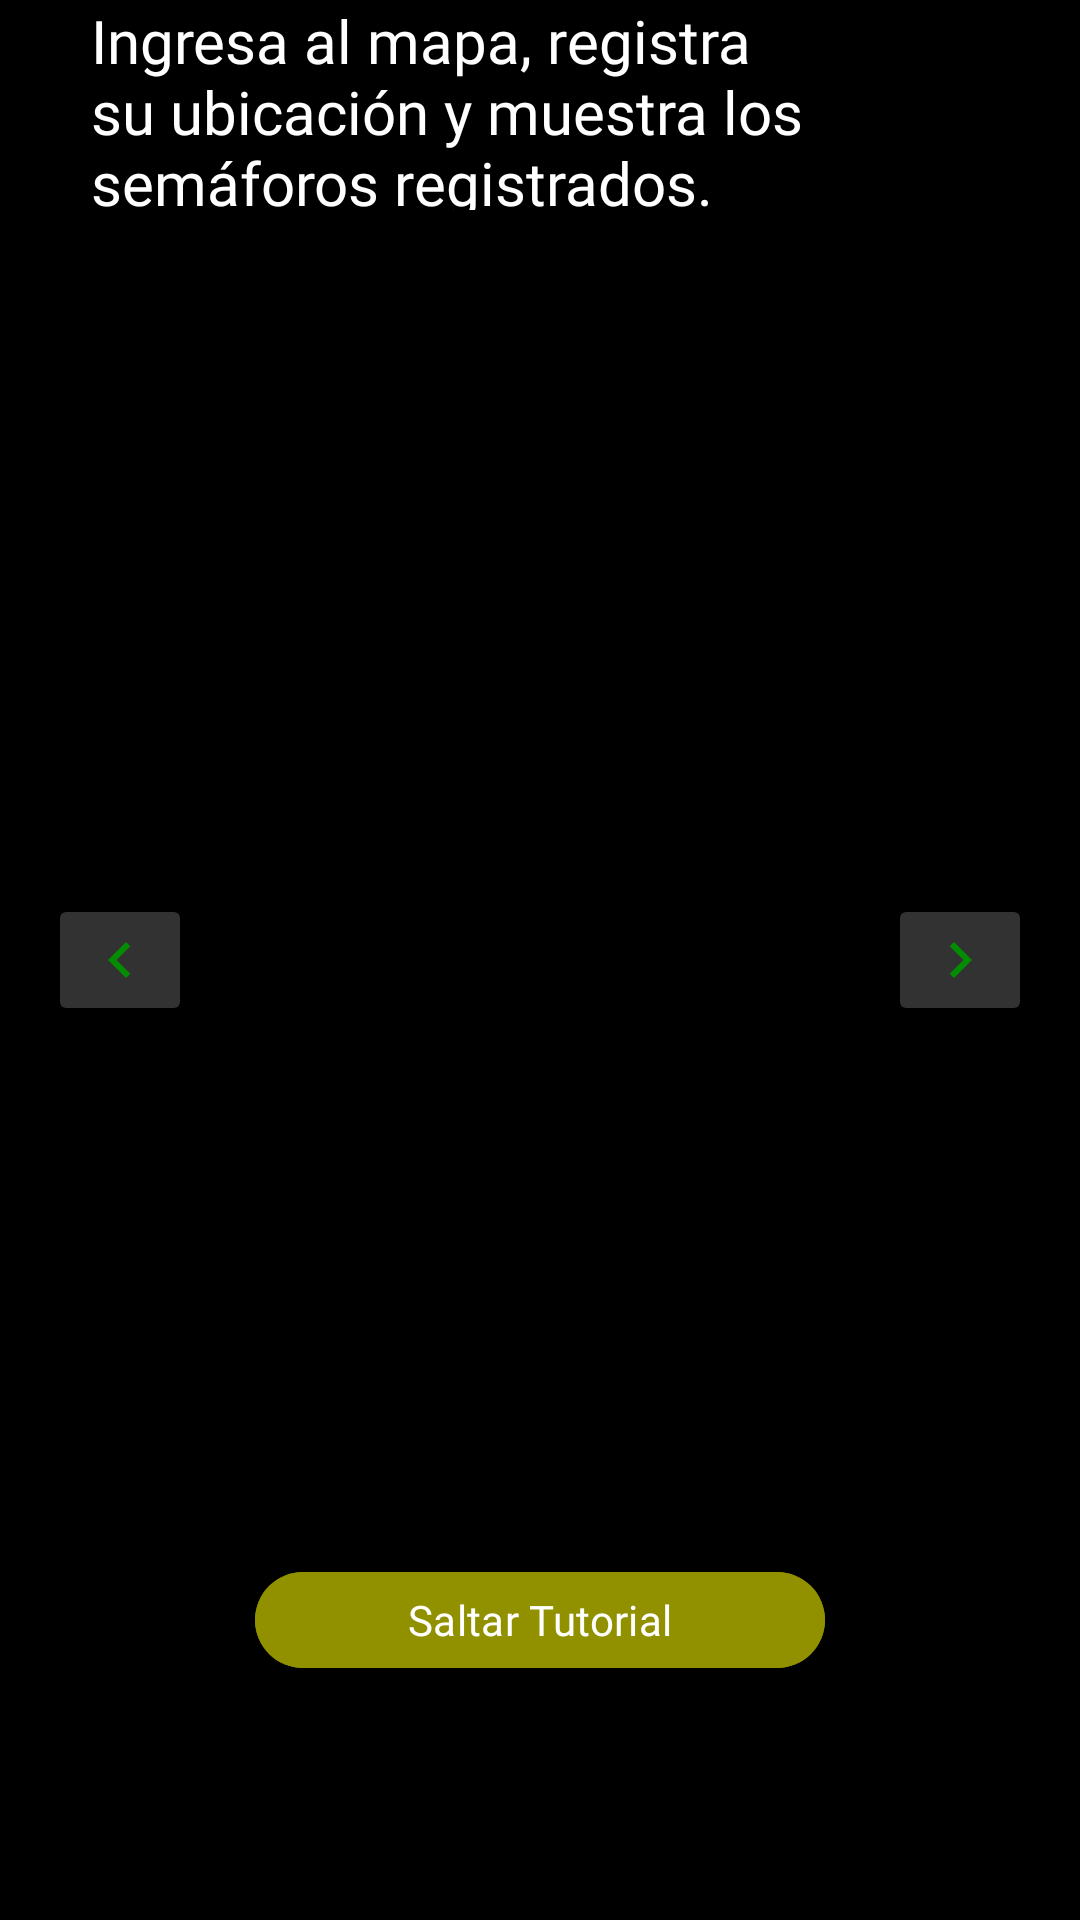

Icon bounding boxes for this 1080×1920 phone screenshot, format box=[x1, y1, x2, y2]:
Anterior: box=[60, 912, 180, 1008]
Siguiente: box=[900, 912, 1020, 1008]
